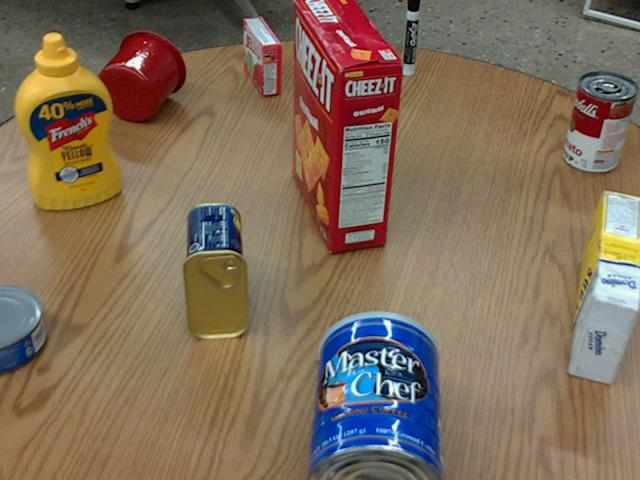cracker_box: (289, 0, 401, 250)
gelatin_box: (244, 17, 282, 95)
large_marker: (401, 0, 419, 74)
master_chef_can: (307, 311, 443, 479)
mug: (96, 30, 185, 121)
mustard_bottle: (15, 33, 120, 208)
potted_meat_can: (181, 202, 246, 338)
sugar_box: (570, 191, 639, 384)
tomato_soup_can: (562, 72, 635, 173)
tuna_fish_can: (0, 283, 45, 370)
